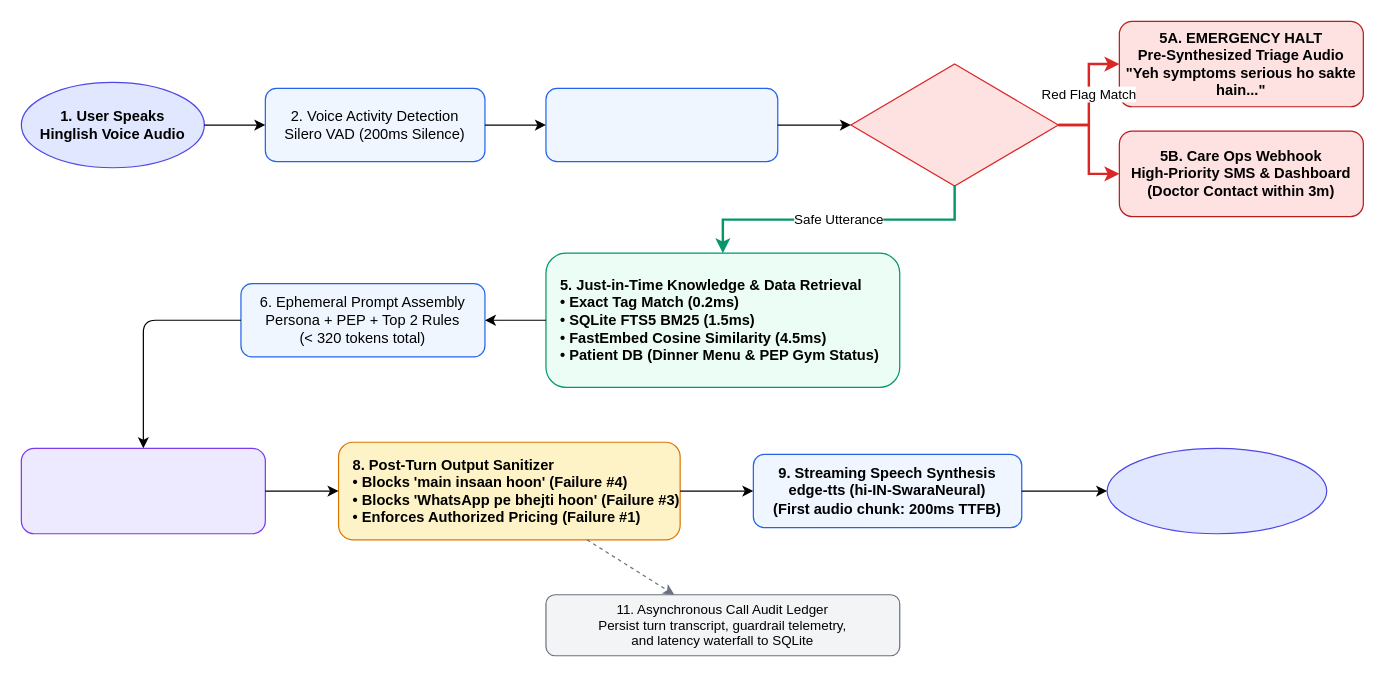
Some shapes in this 1385 by 677 pixel diagram are drawn without their labels. Here are the shapes that lost their labels. From the top down, the centre of each, then its label:
At (x=661, y=124): "3. Speech-to-Text Groq Whisper-large-v3 (Hinglish Context Prompt)".
At (x=954, y=124): "4. Pre-Turn Triage Aho-Corasick Matcher (< 0.005 ms)".
At (x=142, y=490): "7. Conversational Reasoning Groq LPU Llama-3.3-70B (TTFT: 200ms | 300 tok/sec)".
At (x=1216, y=490): "10. Patient Hears Speech Empathetic Hinglish Audio (Total Turn Latency < 900ms)".
